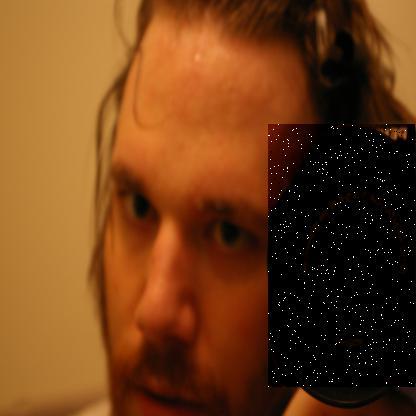Camera: (269, 125, 416, 389)
